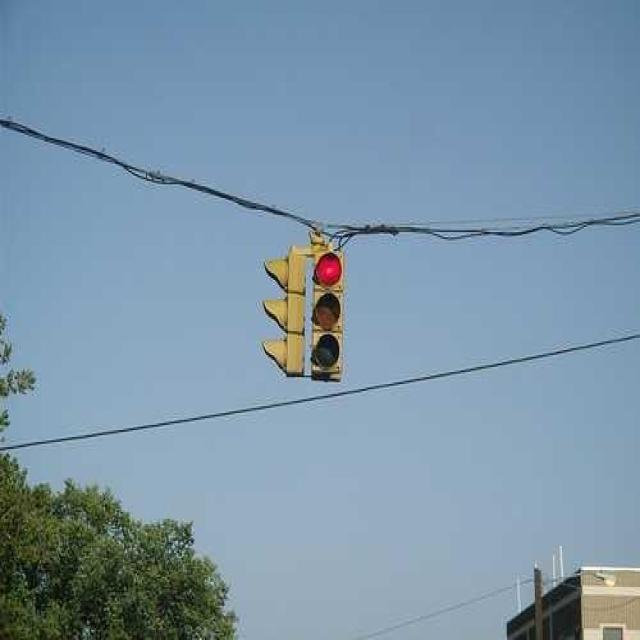Traffic Light -Red-: (300, 241, 354, 384)
